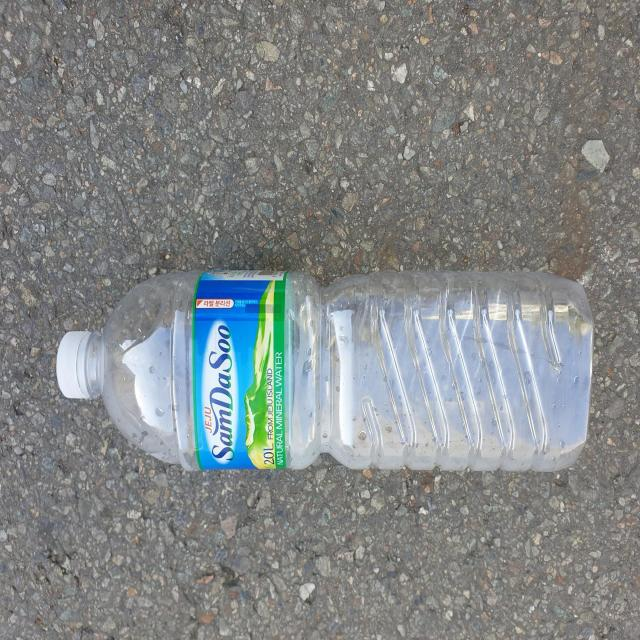plastic: (56, 271, 595, 471)
